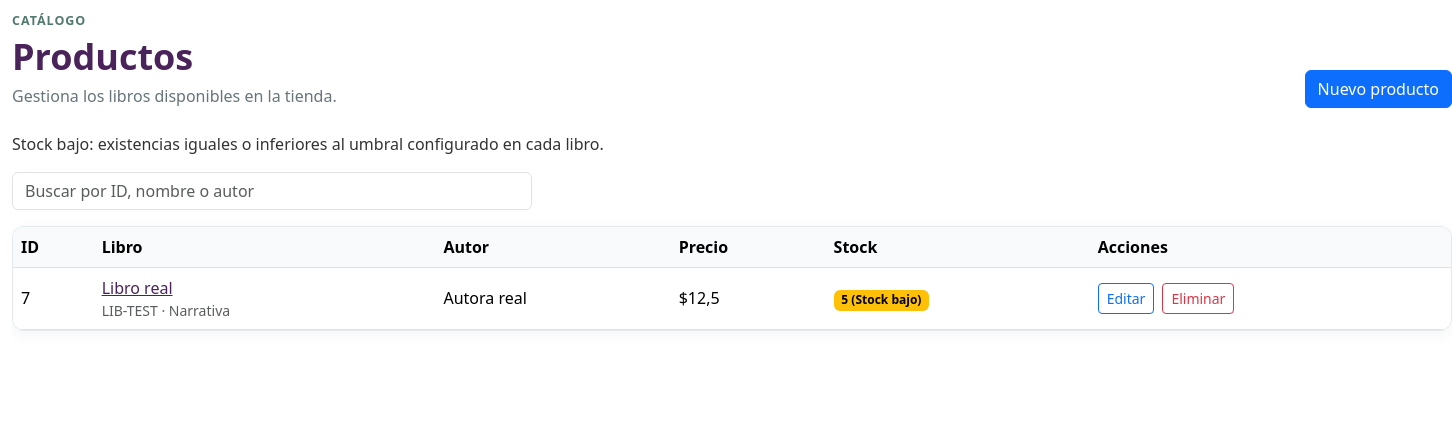
Scenario: Productos mediante Gateway › elimina únicamente tras confirmar y recibir éxito del servidor
The image size is (1452, 433).
Nota de lectura: Invoca la operación indicada con los argumentos de este bloque.
Click the button with aria-label "Eliminar Libro": (1198, 298) [1162, 283, 1234, 314]
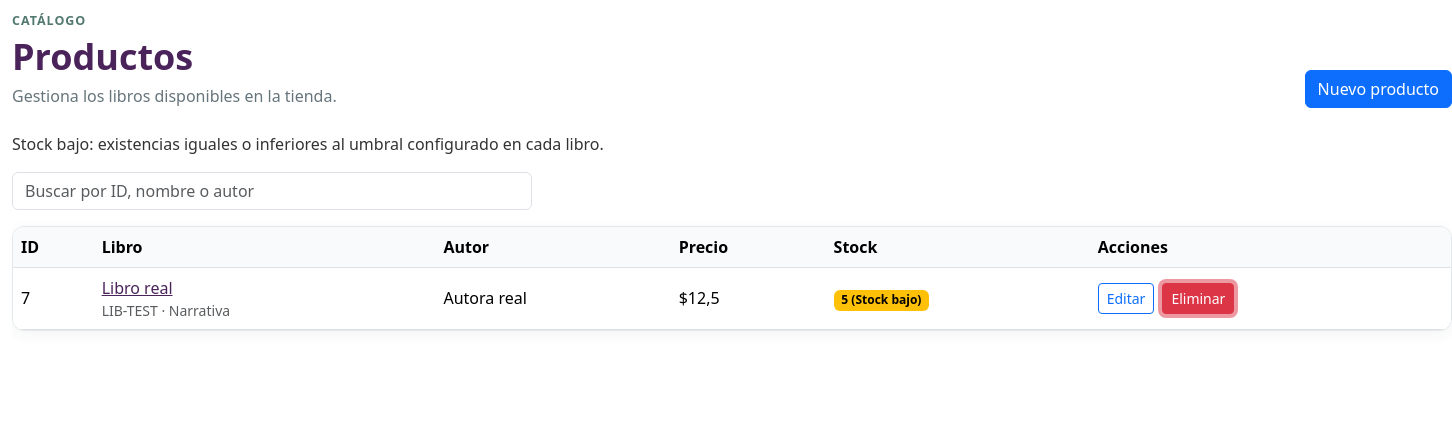
Nota de lectura: Invoca la operación indicada con los argumentos de este bloque.
Click the button with aria-label "Eliminar Libro": (1198, 298) [1162, 283, 1234, 314]
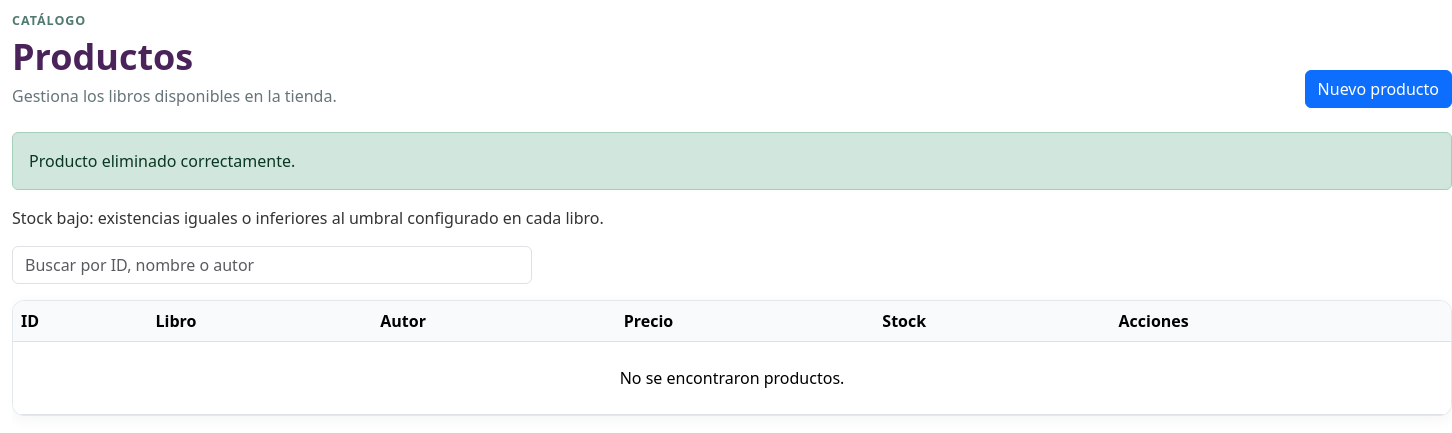
Check: the message shows "eliminado correctamente", box [29, 150, 295, 172]
Check: the link "Libro real" is gone
